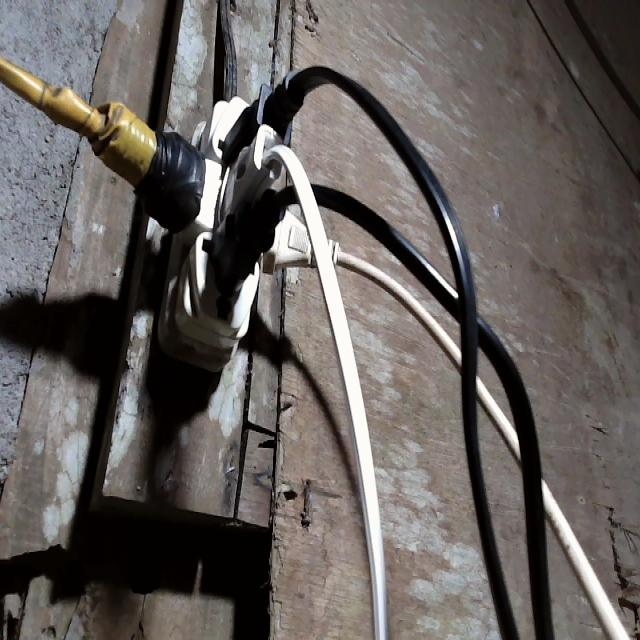-: (65, 64, 356, 365)
